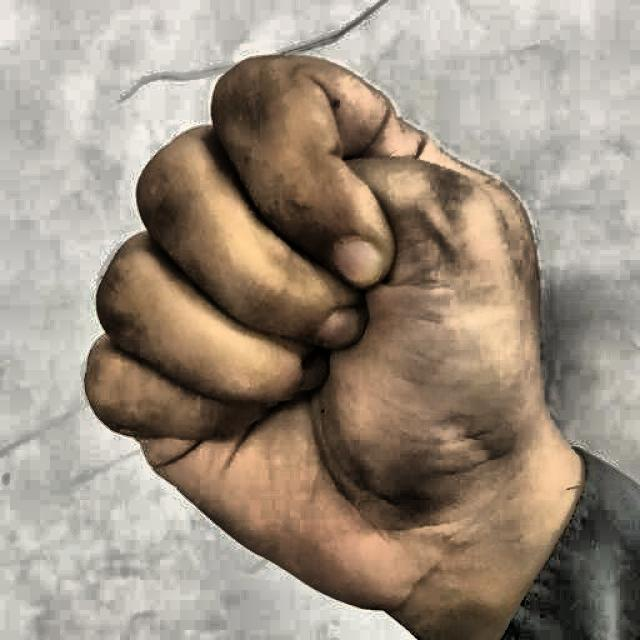To: (68, 29, 573, 640)
